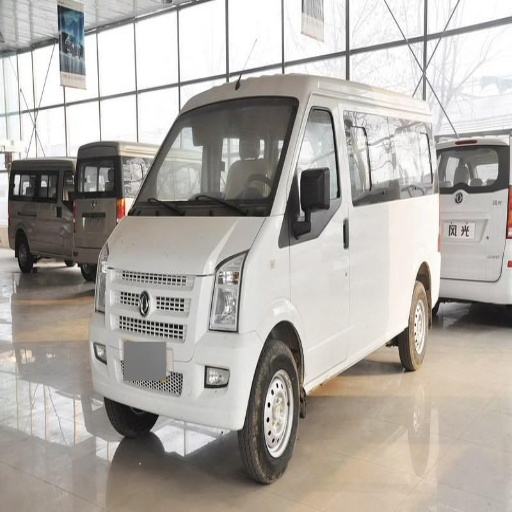front_bumper: (92, 268, 263, 413)
front_glass: (129, 100, 297, 215)
front_left_door: (290, 105, 381, 373)
trunk: (392, 187, 500, 294)
